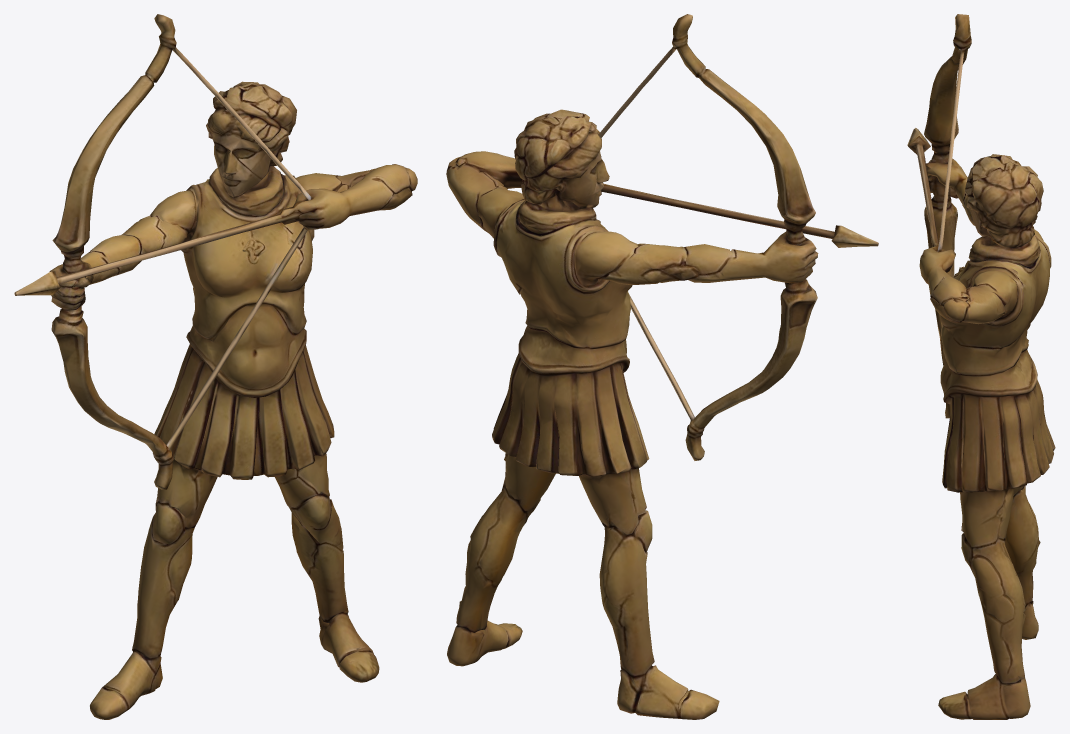
The model's file is gstatue.glb.
3 views of the same model, side by side, from view 1: azimuth 30°, elevation 25°; view 2: azimuth 150°, elevation 25°; view 3: azimuth 270°, elevation 25° (orthographic). The views are drawn at different scales.
Parts seen in each view (by area): view 1: tripo_node_36296612-720b-4cdb-aecb-8c7795a68eb0; view 2: tripo_node_36296612-720b-4cdb-aecb-8c7795a68eb0; view 3: tripo_node_36296612-720b-4cdb-aecb-8c7795a68eb0.
Part boxes in pixels (box(x1,y1,x2,y2)): tripo_node_36296612-720b-4cdb-aecb-8c7795a68eb0: box(14, 14, 417, 719); tripo_node_36296612-720b-4cdb-aecb-8c7795a68eb0: box(446, 14, 878, 719); tripo_node_36296612-720b-4cdb-aecb-8c7795a68eb0: box(907, 14, 1055, 719).
Bounding box in the file's own units: 0.6289 × 1 × 0.2179.
Materials: 1 (1 with a texture image).
